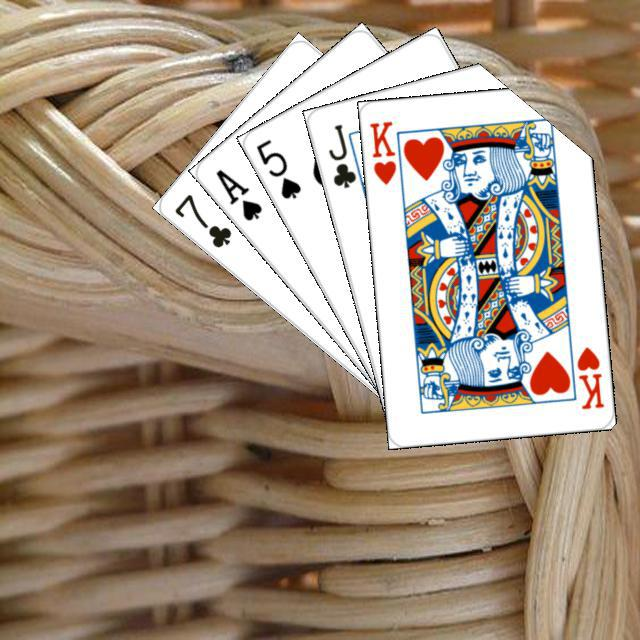5s: (251, 134, 303, 201)
7c: (169, 189, 234, 250)
As: (210, 164, 264, 223)
Jc: (323, 119, 358, 190)
Kh: (365, 116, 406, 191), (572, 341, 606, 411)
